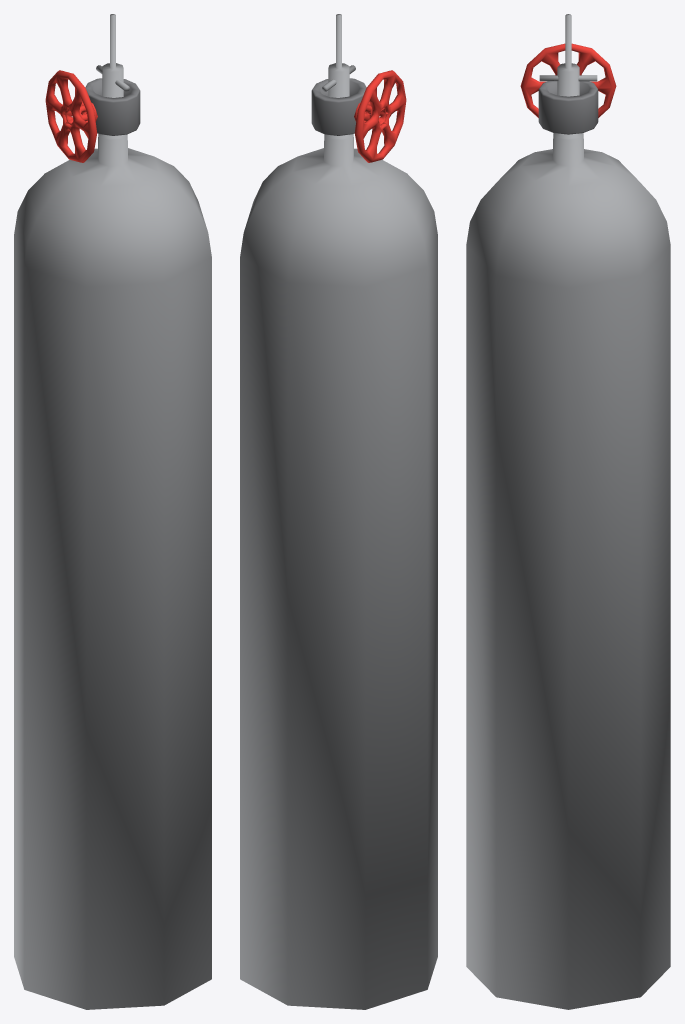
3 renders of one model, left to right at view 1: azimuth 30°, elevation 25°; view 2: azimuth 150°, elevation 25°; view 3: azimuth 270°, elevation 25°, orthographic.
Parts seen in each view (by area): view 1: Cylinder; view 2: Cylinder; view 3: Cylinder.
Part boxes in pixels (<box>): Cylinder: <box>14,14,211,1009</box>; Cylinder: <box>240,14,437,1009</box>; Cylinder: <box>466,14,670,1009</box>.
Bounding box in the file's own units: 0.26 × 1.34 × 0.26.
1 material, 1 textured.
